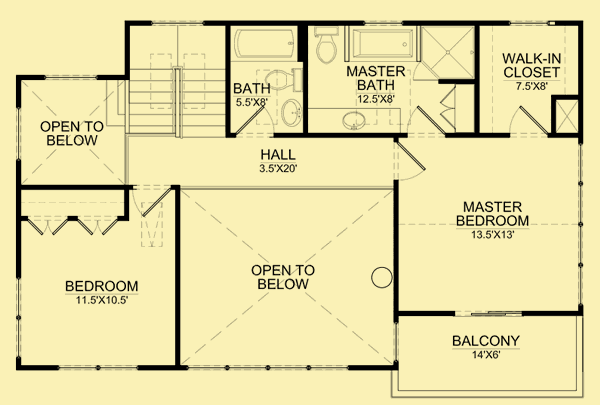door: (508, 103, 552, 142), (232, 106, 277, 140), (128, 185, 171, 219), (407, 104, 449, 138), (393, 141, 429, 180), (27, 214, 67, 239), (75, 215, 118, 238), (410, 61, 438, 85)
large_sink: (310, 25, 345, 67), (257, 67, 305, 93)
small_sink: (309, 105, 402, 132), (278, 92, 304, 132)
stairs: (129, 26, 228, 144)
tub: (346, 26, 421, 64), (229, 25, 298, 65)
window: (451, 307, 524, 318), (13, 109, 24, 160), (148, 16, 201, 26), (41, 72, 99, 81)
